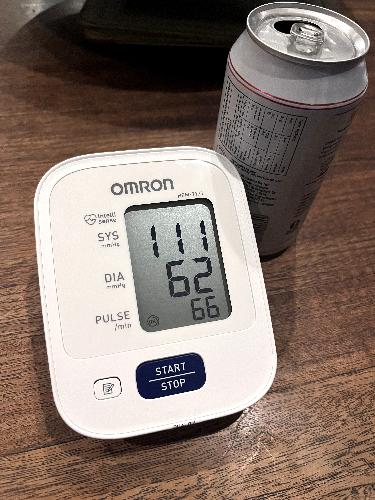bpm: (119, 191, 235, 334)
